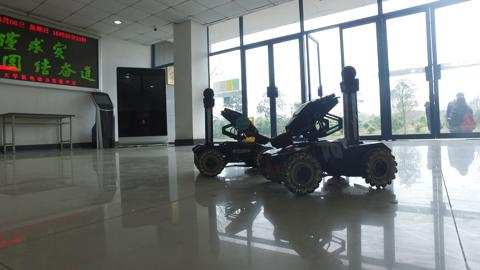chariot: (262, 65, 400, 203), (190, 88, 285, 180)
